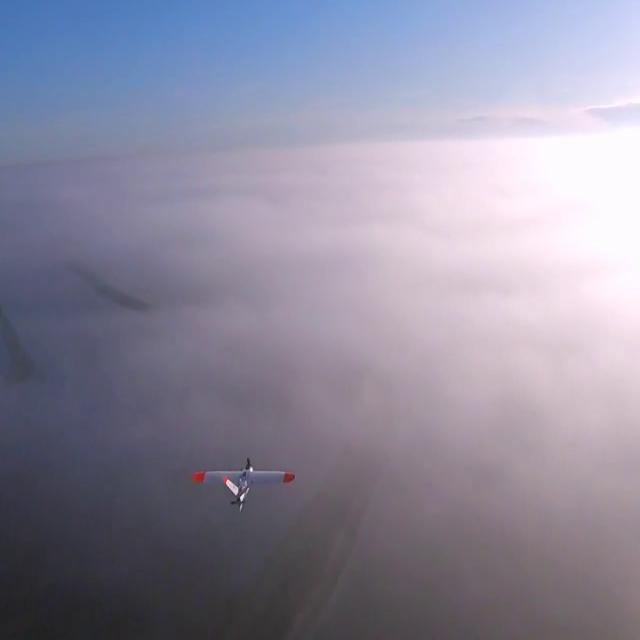iha: (221, 460, 265, 518)
